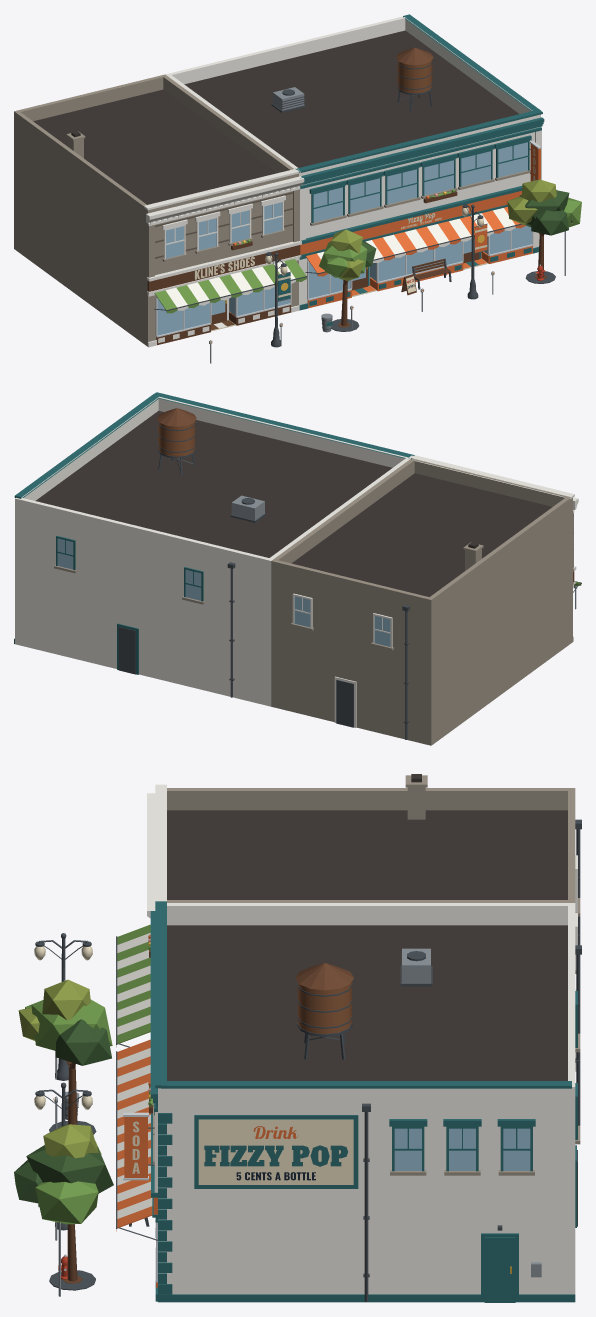
Rendered from Lobby_BlockSoda.fbx.
3 views of the same model, one above another, from view 1: azimuth 30°, elevation 25°; view 2: azimuth 150°, elevation 25°; view 3: azimuth 270°, elevation 25° (orthographic). The views are drawn at different scales.
Parts seen in each view (by area): view 1: Decor, Decor2, DecorGlassSkyblue__, DecorGlassSkyblue, Decor_; view 2: Decor2, Decor, DecorGlassSkyblue__; view 3: Decor2, Decor, DecorGlassSkyblue__.
Boxes of the visible parts, x1,y1,x2,y2 form: Decor: (14,74,424,363); Decor2: (165,14,581,299); DecorGlassSkyblue__: (166,142,527,258); DecorGlassSkyblue: (157,225,531,335); Decor_: (166,224,525,313); Decor2: (14,392,414,706); Decor: (182,455,581,745); DecorGlassSkyblue__: (57,538,390,646); Decor2: (14,901,580,1302); Decor: (18,774,581,1134); DecorGlassSkyblue__: (394,1128,530,1170).
Size of the model in its own units: 80.21 by 34.53 by 62.61.
